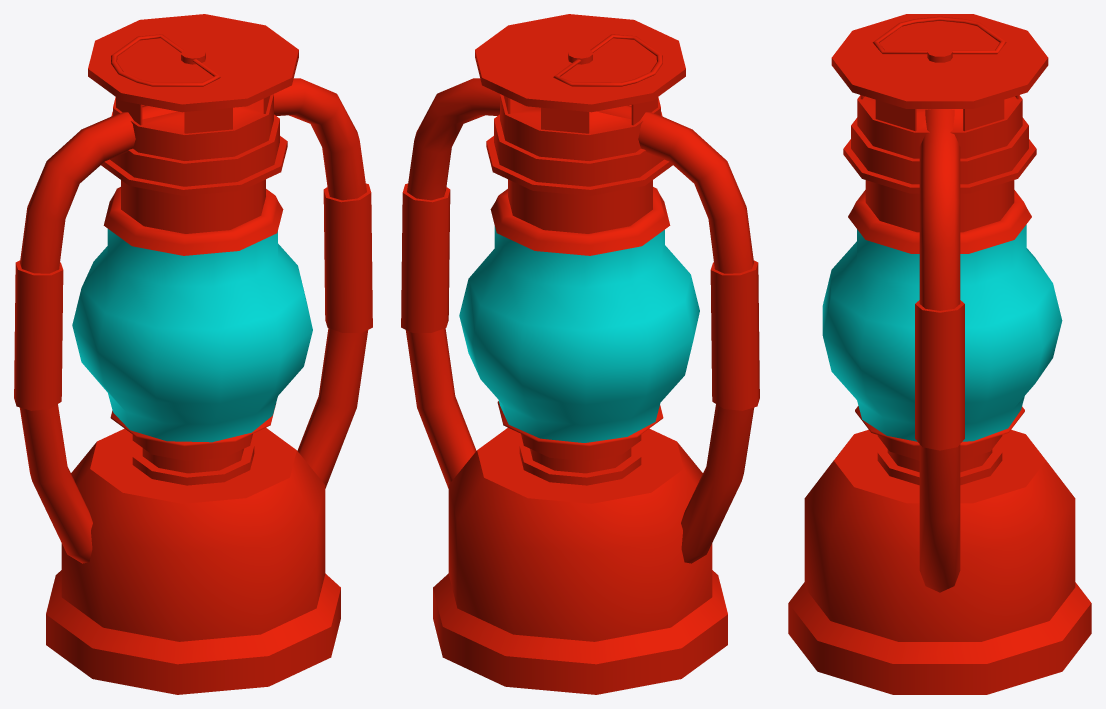
Rendered from Lantarn.fbx.
3 renders of one model, left to right at view 1: azimuth 30°, elevation 25°; view 2: azimuth 150°, elevation 25°; view 3: azimuth 270°, elevation 25°, orthographic.
Visible parts, largest first — view 1: NurbsPath; view 2: NurbsPath; view 3: NurbsPath.
Part boxes in pixels (x1=…): NurbsPath: x1=14, y1=14, x2=372, y2=694; NurbsPath: x1=401, y1=14, x2=759, y2=694; NurbsPath: x1=788, y1=14, x2=1091, y2=694.
Size of the model in its own units: 0.1473 by 0.23 by 0.1085.
